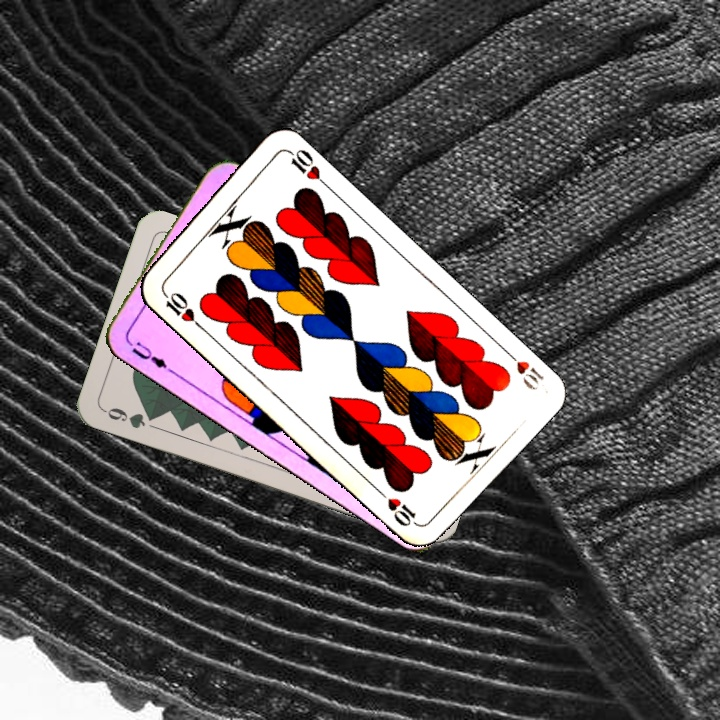EU: (127, 337, 175, 376)
G9: (100, 403, 160, 431)
H10: (499, 344, 547, 394), (157, 285, 205, 331)
